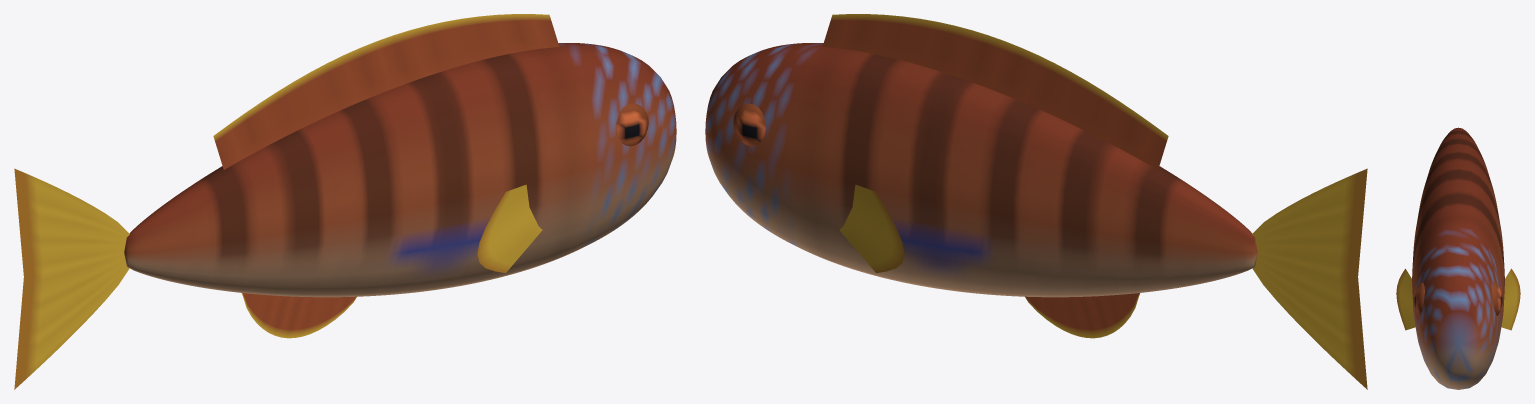
File: hani.glb
The picture shows the model from 3 angles, left to right: view 1: azimuth 30°, elevation 25°; view 2: azimuth 150°, elevation 25°; view 3: azimuth 270°, elevation 25°; orthographic projection. The views are drawn at different scales.
Visible parts, largest first — view 1: hani_govde, hani_sirt, hani_kuyruk, hani_anal_a, hani_gogusL, hani_gozL; view 2: hani_govde, hani_sirt, hani_kuyruk, hani_anal_a, hani_gogusR, hani_gozR; view 3: hani_govde, hani_gogusL, hani_gogusR, hani_gozL, hani_gozR.
Part boxes in pixels (x1,y1,x2,y2): hani_govde: (124, 43, 676, 297); hani_sirt: (213, 14, 559, 169); hani_kuyruk: (14, 168, 129, 389); hani_anal_a: (242, 293, 356, 338); hani_gogusL: (477, 184, 542, 273); hani_gozL: (616, 103, 648, 146); hani_govde: (705, 43, 1257, 297); hani_sirt: (822, 14, 1168, 169); hani_kuyruk: (1252, 168, 1367, 389); hani_anal_a: (1025, 293, 1139, 338); hani_gogusR: (839, 184, 904, 273); hani_gozR: (733, 103, 765, 146); hani_govde: (1412, 127, 1504, 389); hani_gogusL: (1396, 268, 1415, 330); hani_gogusR: (1501, 268, 1520, 330); hani_gozL: (1414, 282, 1424, 315); hani_gozR: (1492, 282, 1502, 315).
Size of the model in its own units: 0.995 by 0.4054 by 0.2126.
